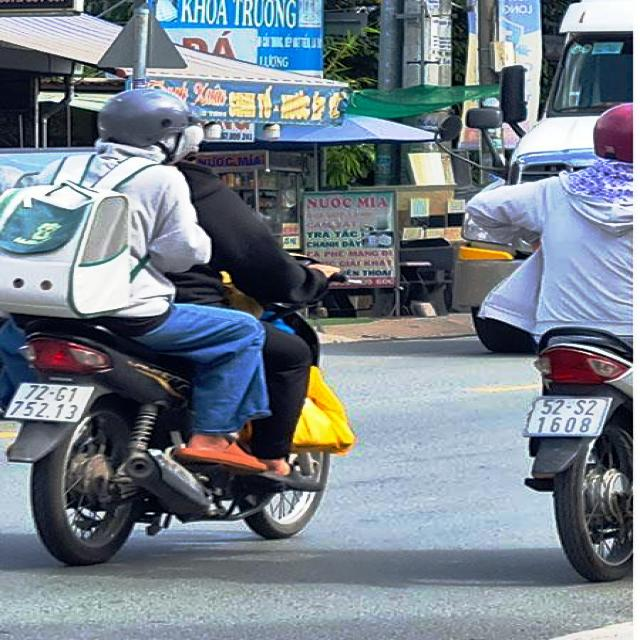license_plate: (2, 379, 102, 425), (525, 396, 611, 441)
